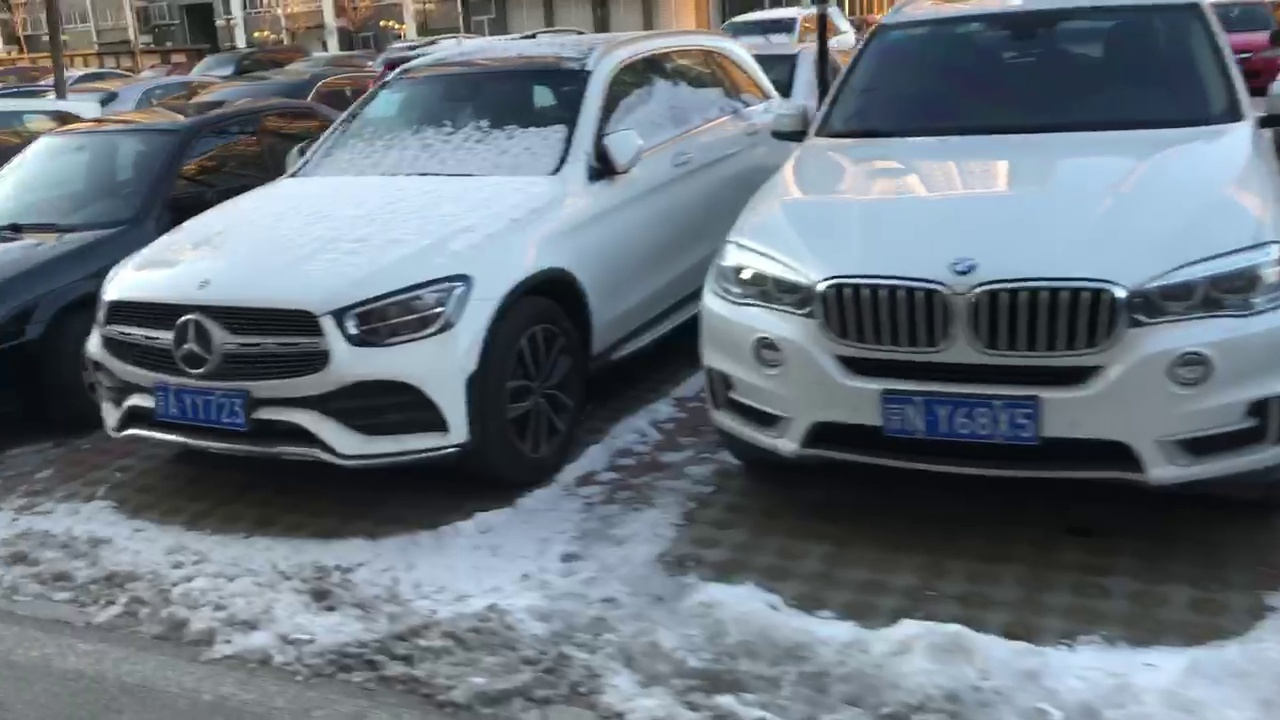plate: (880, 389, 1043, 445), (152, 388, 254, 432)
